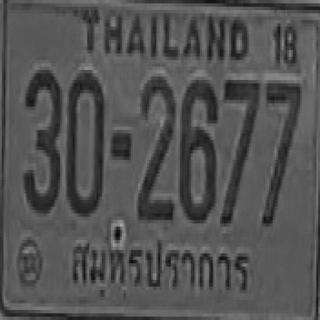N00: (65, 70, 104, 213)
N02: (138, 75, 174, 218)
N03: (22, 67, 60, 210)
N06: (178, 77, 216, 220)
N07: (261, 78, 301, 225), (221, 77, 259, 223)
P57: (68, 227, 255, 303)
